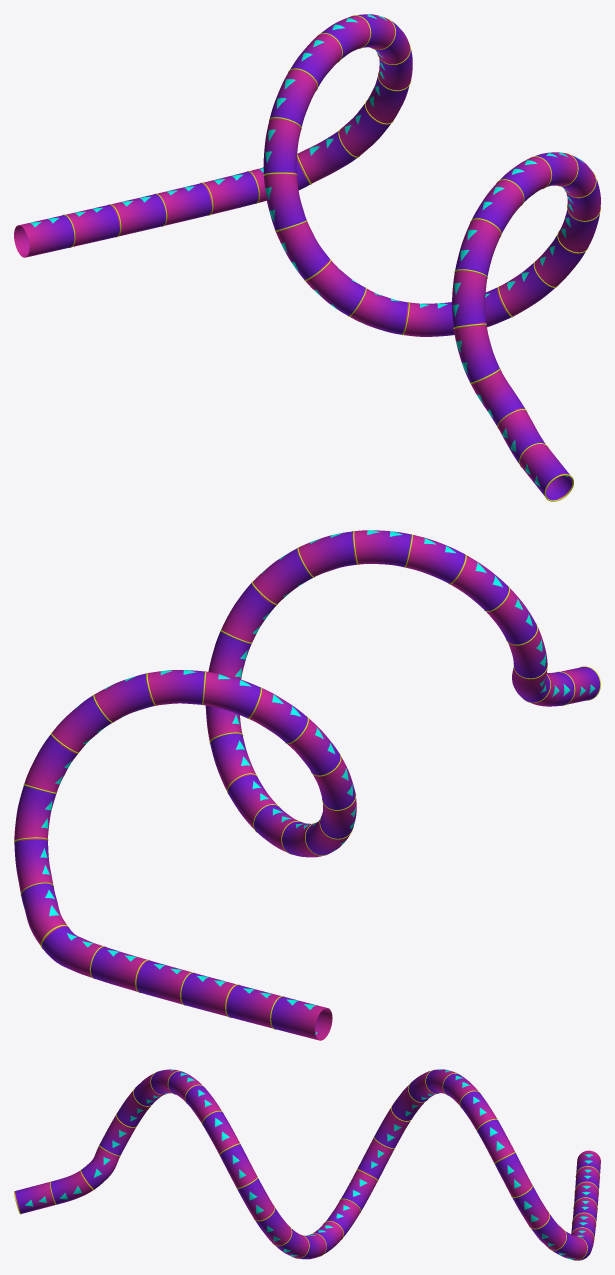
File: leel 3 curve path.fbx
3 renders of one model, top to bottom at view 1: azimuth 30°, elevation 25°; view 2: azimuth 150°, elevation 25°; view 3: azimuth 270°, elevation 25°, orthographic. The views are drawn at different scales.
Parts seen in each view (by area): view 1: Torus.002; view 2: Torus.002; view 3: Torus.002.
Boxes of the visible parts, x1,y1,x2,y2 form: Torus.002: [14, 14, 600, 501]; Torus.002: [14, 530, 600, 1040]; Torus.002: [14, 1069, 600, 1260].
Size of the model in its own units: 25509 by 17268 by 52855.
